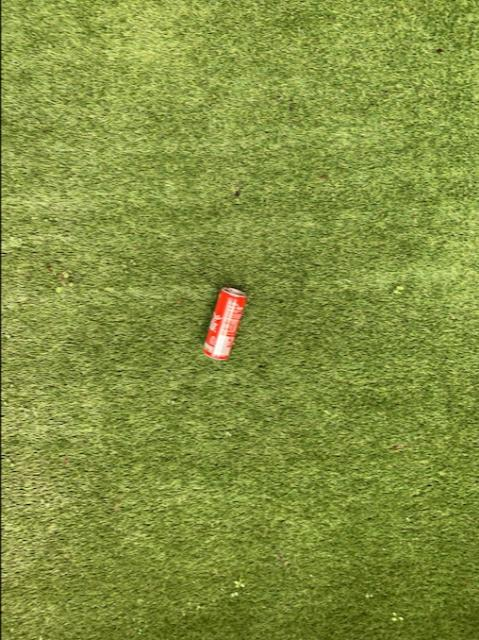metal: (201, 286, 244, 358)
